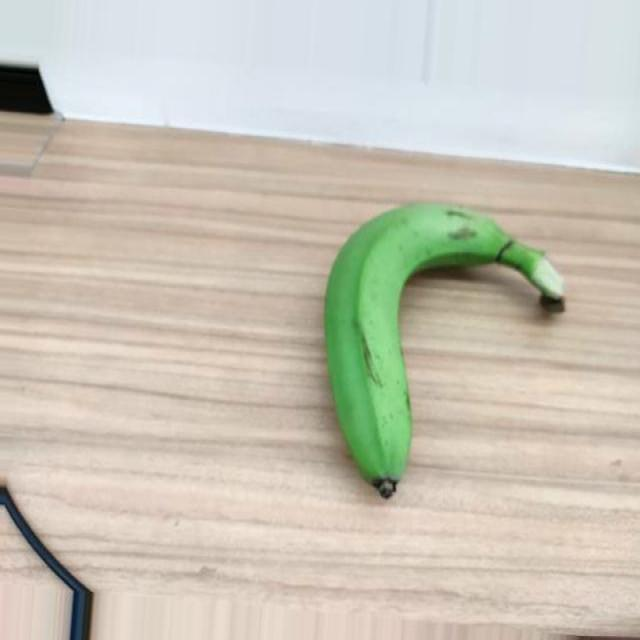Unripe: (322, 199, 568, 501)
